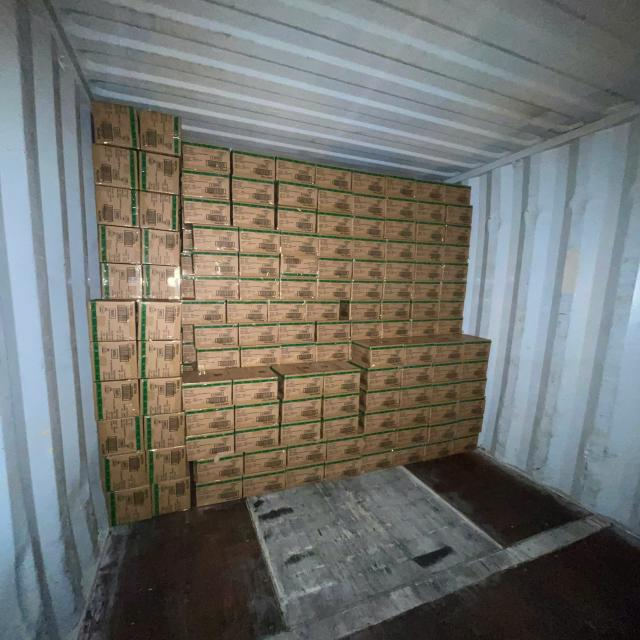Carton: (95, 415, 146, 458), (103, 485, 154, 528), (85, 301, 138, 342), (90, 143, 136, 189), (99, 450, 148, 493), (91, 104, 136, 150), (91, 379, 140, 421), (89, 341, 139, 382), (136, 111, 178, 158), (98, 224, 140, 266), (138, 153, 180, 195), (144, 444, 188, 484), (185, 428, 236, 462), (151, 476, 193, 517), (138, 302, 182, 341), (181, 144, 232, 177), (143, 411, 185, 451), (100, 262, 142, 302), (96, 186, 136, 228), (185, 403, 234, 437), (140, 377, 182, 416), (193, 452, 244, 484), (141, 341, 182, 380), (194, 476, 243, 508), (138, 193, 178, 232), (181, 172, 232, 202), (182, 384, 234, 412), (142, 231, 181, 267), (180, 201, 230, 228), (237, 423, 279, 455), (242, 468, 285, 499), (144, 266, 181, 302), (237, 404, 282, 432), (231, 179, 276, 207), (280, 416, 322, 446), (233, 380, 281, 406), (191, 229, 239, 255), (191, 253, 239, 279), (245, 446, 288, 475), (234, 155, 277, 183), (285, 440, 328, 468), (285, 460, 325, 490), (193, 323, 239, 349), (194, 346, 240, 372), (230, 205, 274, 232), (238, 251, 281, 278), (277, 183, 319, 210), (275, 160, 316, 187), (276, 210, 317, 237), (182, 303, 228, 327), (192, 279, 240, 302), (280, 398, 322, 424), (322, 391, 361, 418), (240, 230, 282, 255), (326, 433, 362, 462), (240, 343, 280, 369), (280, 230, 318, 257), (280, 253, 318, 280), (362, 427, 397, 456), (226, 300, 268, 324), (326, 455, 362, 483), (323, 373, 363, 398), (282, 377, 323, 401), (239, 322, 280, 346), (238, 277, 280, 300), (317, 192, 353, 218), (315, 167, 351, 193), (280, 341, 317, 366), (279, 278, 317, 302), (364, 387, 400, 412), (323, 415, 359, 440), (267, 300, 307, 322), (317, 213, 352, 238), (351, 172, 386, 197), (400, 382, 431, 410), (317, 256, 353, 280), (369, 344, 405, 368), (364, 407, 398, 432), (278, 321, 316, 343), (404, 342, 436, 368), (362, 449, 394, 475), (315, 320, 351, 343), (316, 278, 352, 301), (384, 176, 417, 201), (395, 424, 428, 449), (398, 402, 429, 428), (315, 340, 350, 363), (354, 196, 387, 220), (429, 398, 459, 424), (352, 258, 385, 281), (353, 240, 387, 262), (319, 238, 353, 260), (319, 281, 353, 303), (367, 367, 401, 389), (425, 438, 456, 462), (400, 364, 432, 387), (353, 218, 386, 240), (351, 281, 384, 303), (304, 301, 340, 321), (434, 340, 464, 364), (430, 380, 460, 404), (395, 443, 425, 467), (387, 199, 418, 222), (456, 413, 484, 438), (349, 300, 382, 321), (431, 361, 461, 384), (386, 222, 417, 244), (385, 242, 416, 264), (350, 320, 381, 342), (444, 222, 472, 246), (458, 395, 486, 419), (417, 202, 446, 225), (428, 421, 457, 444), (416, 183, 446, 205), (385, 260, 415, 282), (462, 339, 492, 361), (380, 318, 411, 339), (446, 203, 474, 226), (459, 377, 487, 400), (416, 223, 446, 244), (383, 281, 413, 302), (412, 281, 442, 302), (444, 186, 472, 208), (380, 300, 410, 320), (410, 300, 440, 320), (460, 360, 490, 380), (416, 244, 444, 265), (439, 280, 467, 301), (442, 244, 471, 264), (409, 318, 438, 338), (454, 433, 480, 455), (414, 262, 442, 282), (442, 262, 469, 282), (438, 300, 465, 318), (438, 318, 464, 335)
